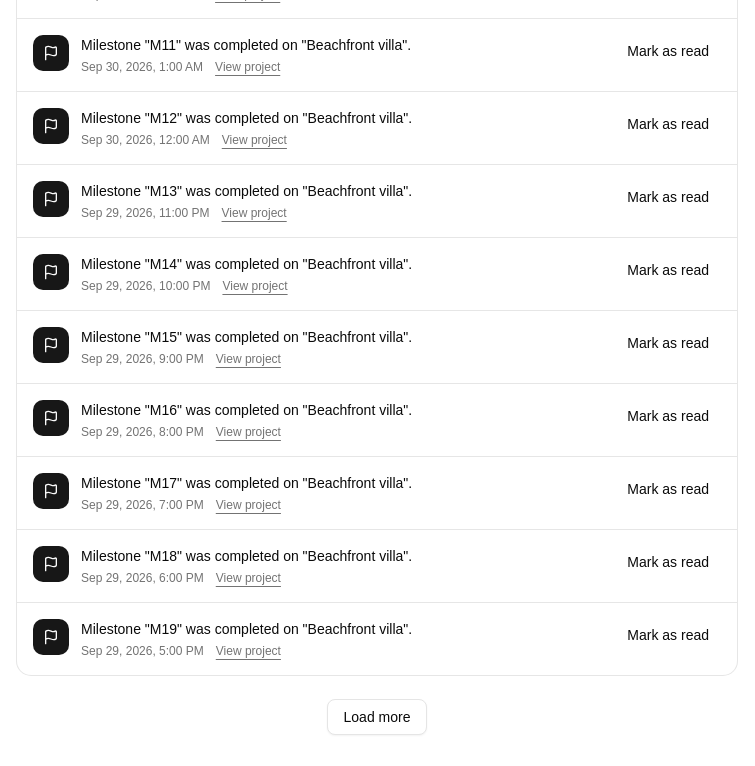
NotificationsPage › loading more › adds the next page below the first, continuing from where it ended
The width and height of the screenshot is (755, 766).
(page scrolled)
Click the button "Load more" at (377, 717), box [326, 699, 427, 735]
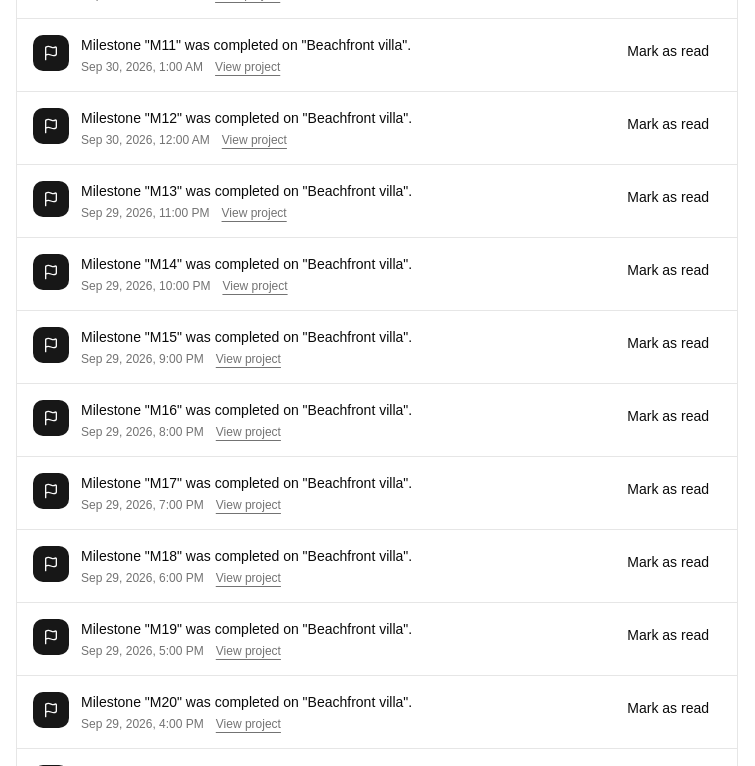
Expected: the text "\"M19\"" is shown, [81, 621, 412, 637]
Expected: the text "Milestone \"M20\" was completed on \"Beachfront villa\"." is shown, [81, 692, 412, 712]
Expected: the text "\"M20\"" is shown, [81, 694, 412, 710]
